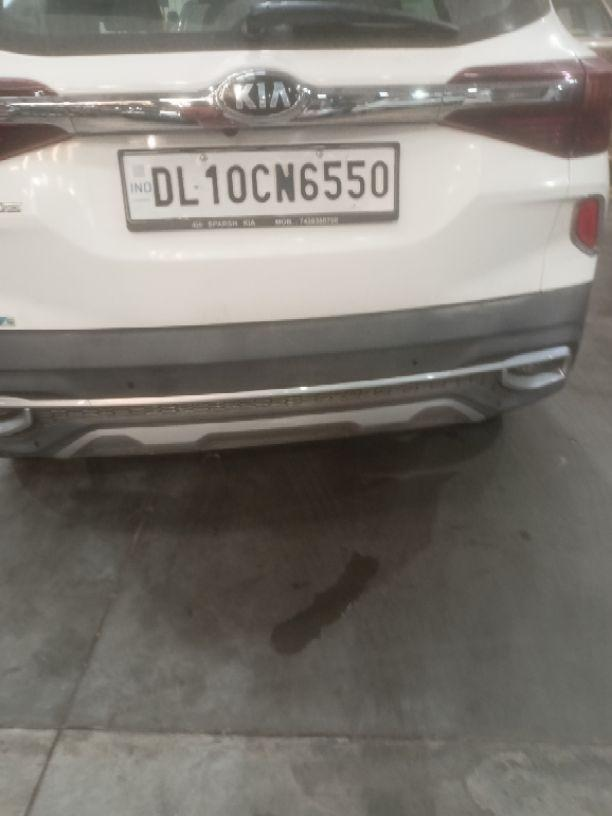license_plate: (116, 141, 401, 230)
